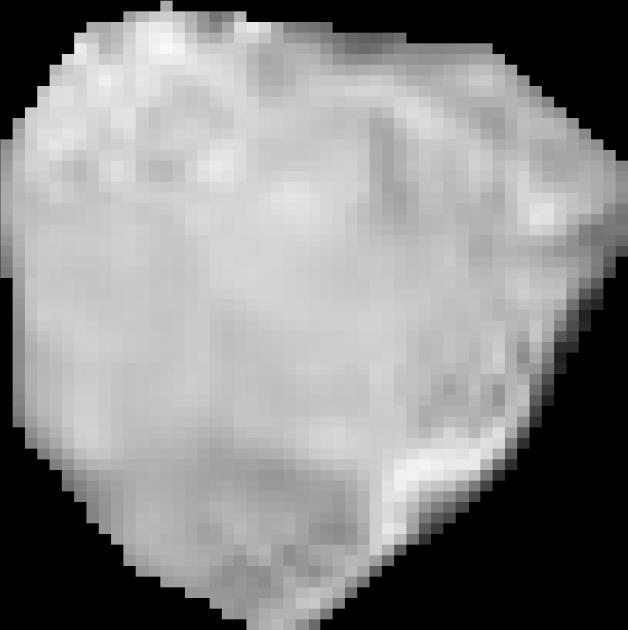tumor_good_chance: (0, 1, 628, 630)
